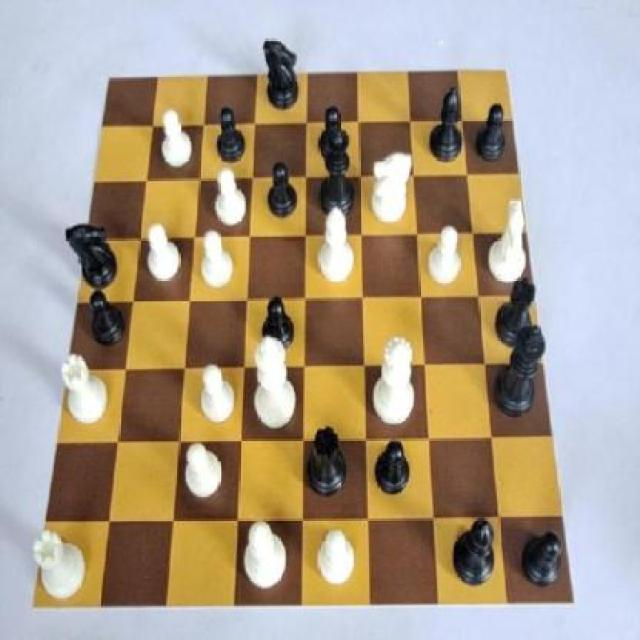bishop: (448, 514, 503, 594), (423, 83, 467, 172)
black-bishop: (488, 318, 555, 428)
black-king: (63, 218, 120, 297), (260, 34, 305, 120)
black-knight: (78, 284, 131, 356), (372, 434, 422, 506), (518, 525, 566, 593), (258, 287, 302, 358), (210, 100, 252, 172), (258, 158, 300, 227), (472, 100, 510, 171), (314, 100, 352, 166)
black-pawn: (310, 128, 362, 223)
black-queen: (488, 268, 544, 350), (305, 423, 346, 504)
black-rook: (238, 516, 294, 606), (316, 203, 360, 287)
white-bishop: (249, 336, 301, 434)
white-king: (483, 195, 538, 288), (371, 143, 415, 230)
white-knight: (174, 432, 231, 508), (308, 518, 360, 594), (424, 218, 468, 296), (192, 358, 241, 424), (197, 216, 237, 296), (211, 155, 250, 234), (157, 109, 196, 173), (143, 220, 182, 283)
white-pawn: (371, 328, 426, 433)
white-queen: (28, 523, 92, 605), (54, 354, 114, 438)
